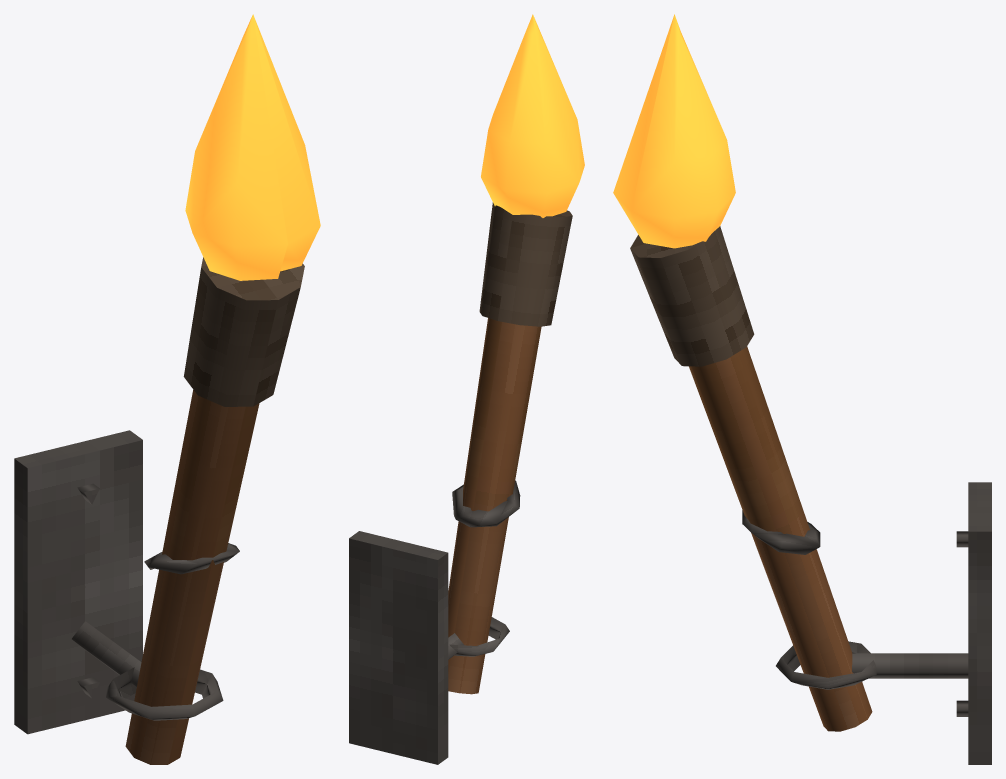
The model's file is torch.lod2.glb.
3 views of the same model, side by side, from view 1: azimuth 30°, elevation 25°; view 2: azimuth 150°, elevation 25°; view 3: azimuth 270°, elevation 25° (orthographic). The views are drawn at different scales.
Parts seen in each view (by area): view 1: Frame, Flame; view 2: Frame, Flame; view 3: Frame, Flame.
Part boxes in pixels (box(x1,y1,x2,y2)): Frame: box(14, 257, 304, 764); Flame: box(185, 14, 320, 280); Frame: box(349, 202, 572, 764); Flame: box(481, 14, 584, 217); Frame: box(630, 226, 991, 764); Flame: box(613, 14, 735, 248).
Size of the model in its own units: 0.105 by 0.6853 by 0.3238.
4 materials, 3 textured.
